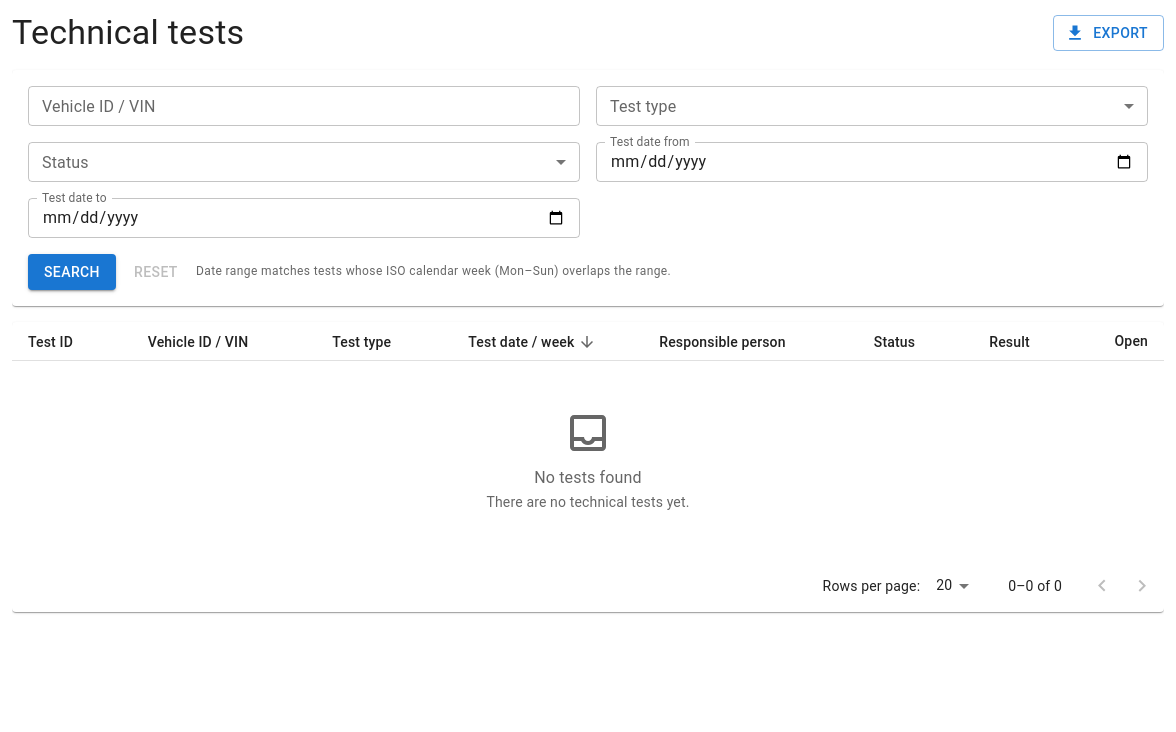
Scenario: Export (F09) › shows the server error when the export fails
Click the button with aria-label "export all matching tests" at (1109, 33), box [1053, 15, 1164, 51]
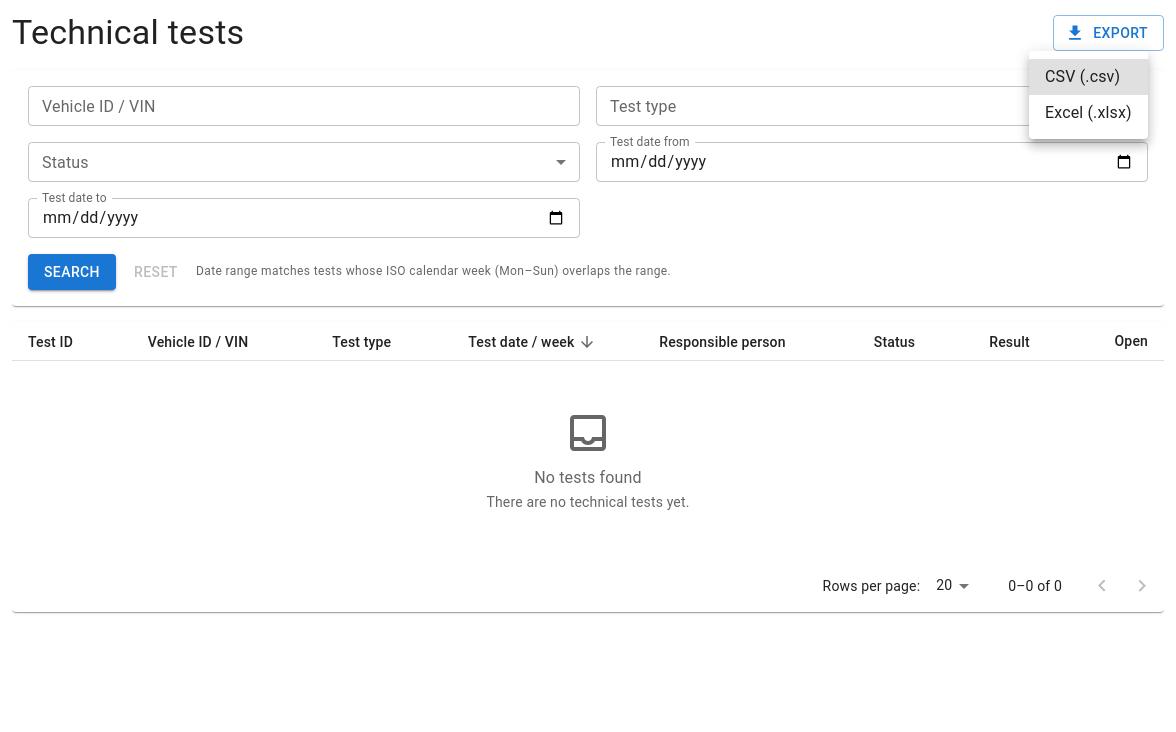
Click the menu item "CSV (.csv)" at (1088, 77), box [1029, 59, 1148, 95]
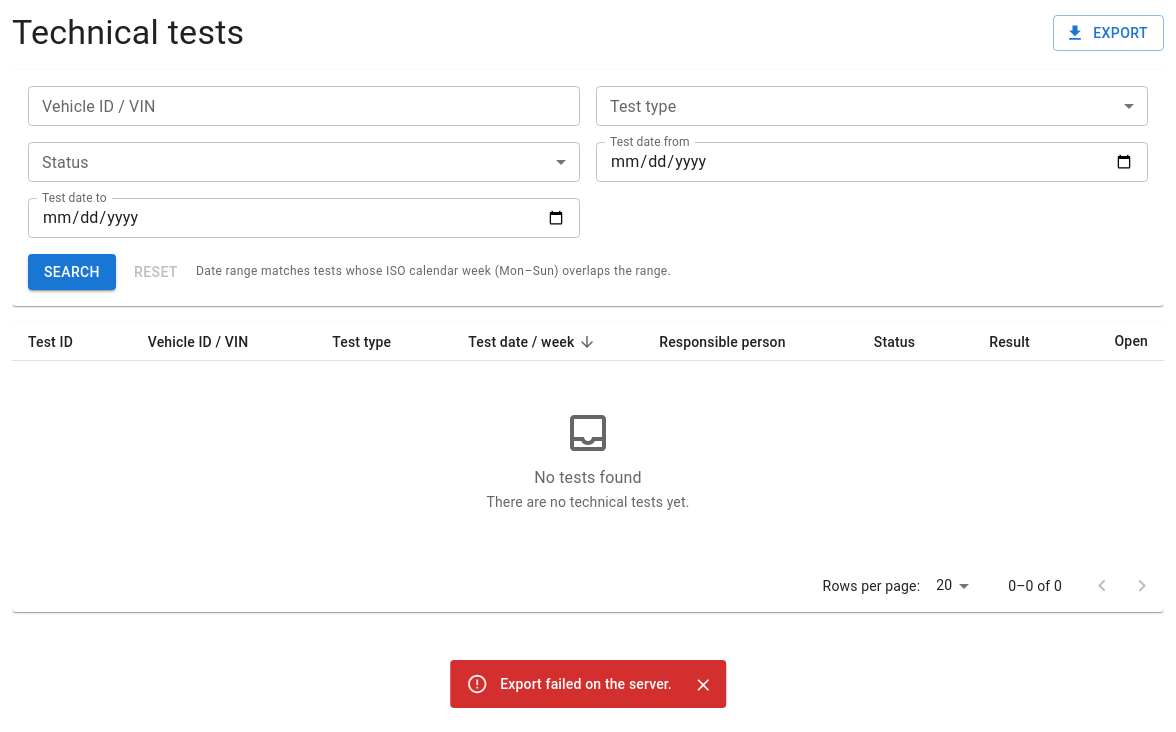
Check: the text "Export failed on the server." is shown, box [500, 676, 672, 692]
